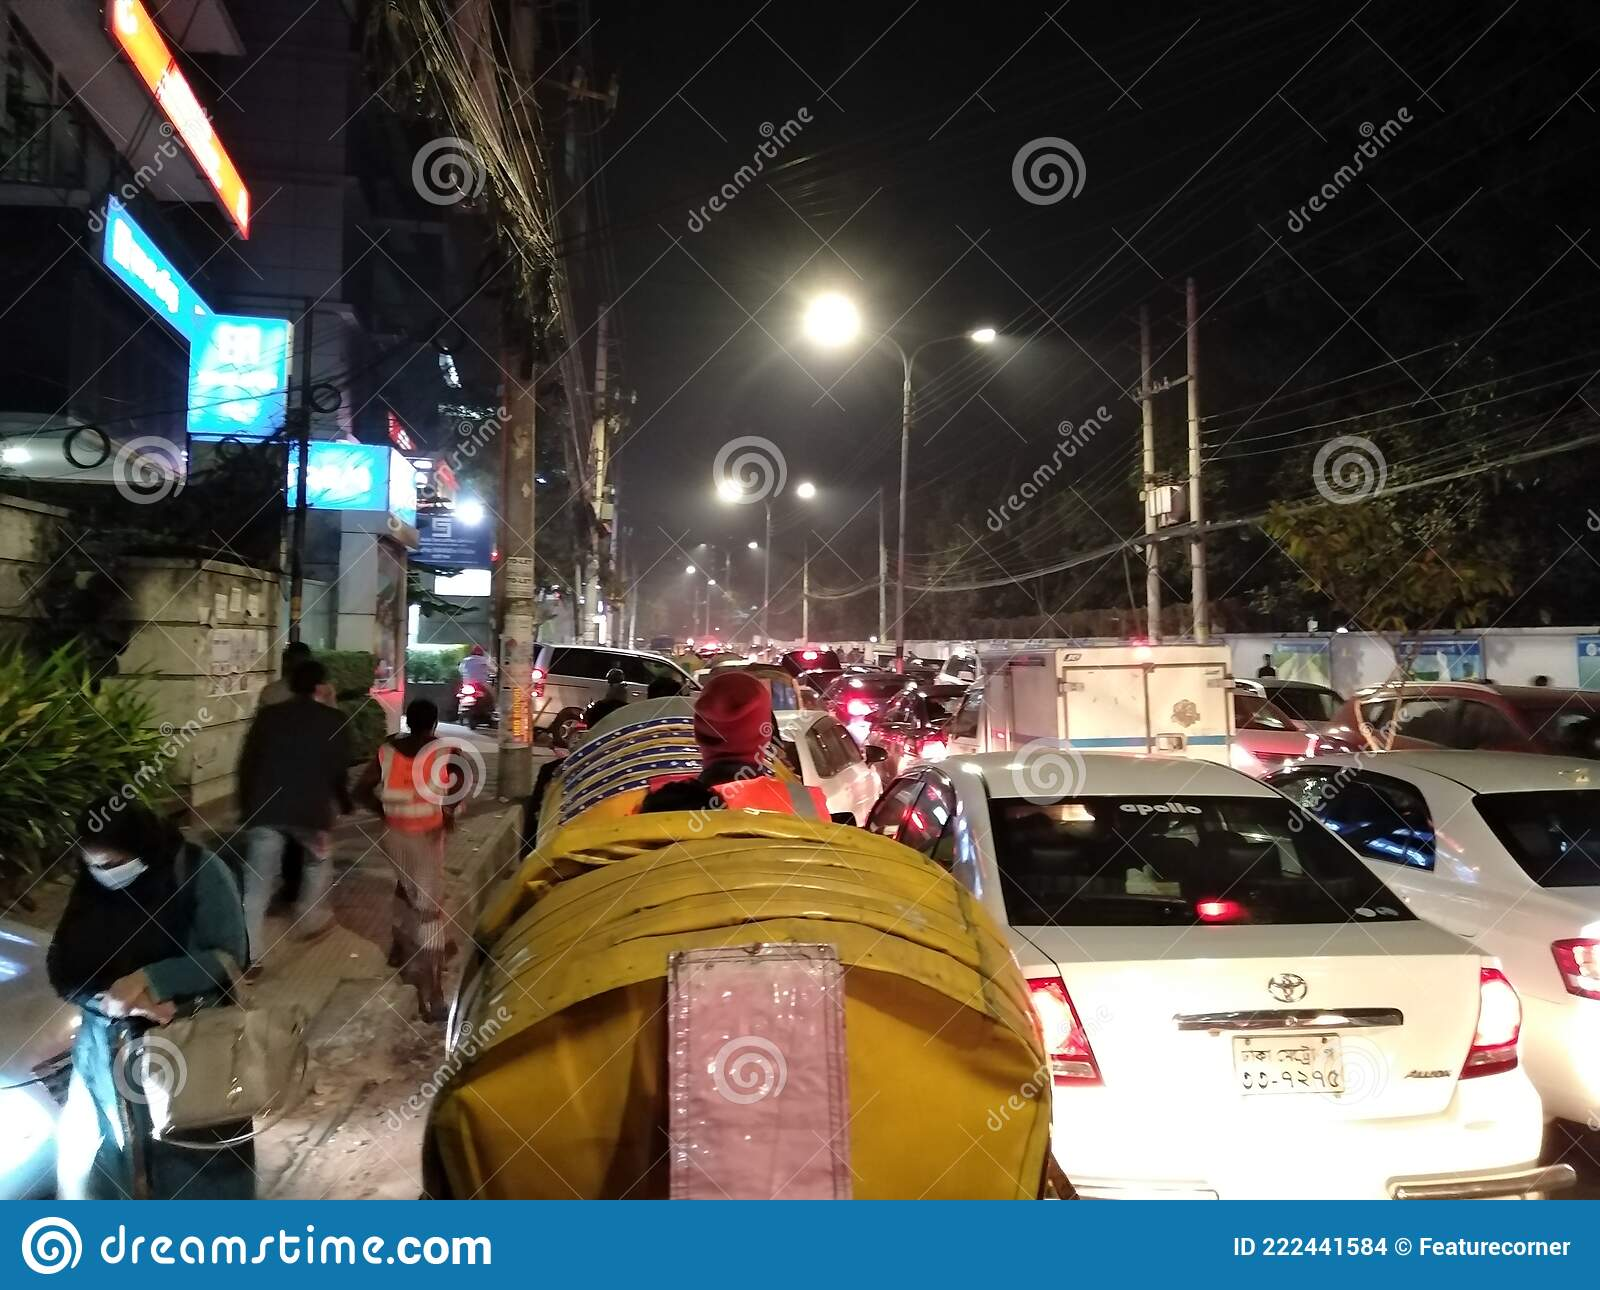5: (432, 849, 1058, 1204)
car: (942, 760, 1538, 1218)
